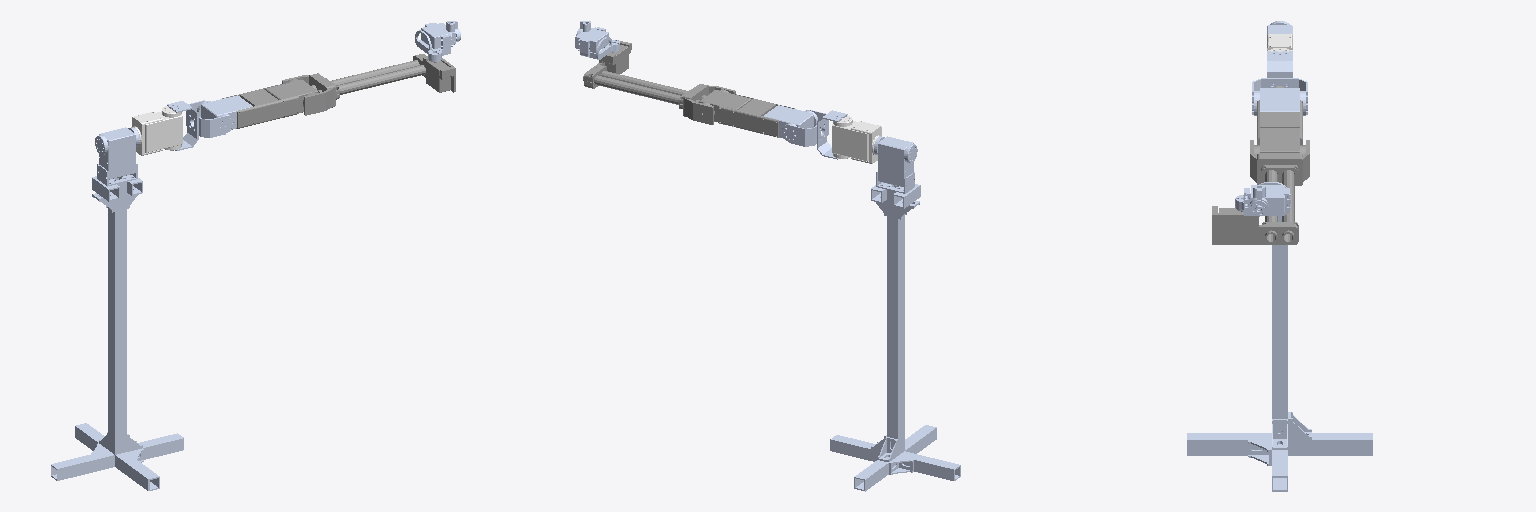
URDF robot description (ASEM_V2.SLDASM):
<?xml version="1.0" encoding="utf-8"?>
<!-- This URDF was automatically created by SolidWorks to URDF Exporter! Originally created by Stephen Brawner (brawner@gmail.com) 
     Commit Version: 1.6.0-4-g7f85cfe  Build Version: 1.6.7995.38578
     For more information, please see http://wiki.ros.org/sw_urdf_exporter -->
<robot
  name="ASEM_V2.SLDASM">
  <link
    name="base_link">
    <inertial>
      <origin
        xyz="0.000783610372245155 0.000780779155891816 0.22487687951109"
        rpy="0 0 0" />
      <mass
        value="0.656798808945253" />
      <inertia
        ixx="0.00352706468827847"
        ixy="-1.80141580287448E-06"
        ixz="8.68934291778745E-07"
        iyy="0.00354410801464646"
        iyz="9.00707901436597E-07"
        izz="0.00022739890592658" />
    </inertial>
    <visual>
      <origin
        xyz="0 0 0"
        rpy="0 0 0" />
      <geometry>
        <mesh
          filename="package://ASEM_V2.SLDASM/meshes/base_link.STL" />
      </geometry>
      <material
        name="">
        <color
          rgba="0.866666666666667 0.909803921568627 1 1" />
      </material>
    </visual>
    <collision>
      <origin
        xyz="0 0 0"
        rpy="0 0 0" />
      <geometry>
        <mesh
          filename="package://ASEM_V2.SLDASM/meshes/base_link.STL" />
      </geometry>
    </collision>
  </link>
  <link
    name="link1">
    <inertial>
      <origin
        xyz="-1.1192675258842E-11 1.53877785190812E-05 0.0699801166821439"
        rpy="0 0 0" />
      <mass
        value="0.120852949012653" />
      <inertia
        ixx="7.02975867816925E-05"
        ixy="9.99323124219071E-14"
        ixz="6.29006420014835E-14"
        iyy="4.76574284717077E-05"
        iyz="-3.17750717415396E-08"
        izz="4.02294785409818E-05" />
    </inertial>
    <visual>
      <origin
        xyz="0 0 0"
        rpy="0 0 0" />
      <geometry>
        <mesh
          filename="package://ASEM_V2.SLDASM/meshes/link1.STL" />
      </geometry>
      <material
        name="">
        <color
          rgba="1 1 1 1" />
      </material>
    </visual>
    <collision>
      <origin
        xyz="0 0 0"
        rpy="0 0 0" />
      <geometry>
        <mesh
          filename="package://ASEM_V2.SLDASM/meshes/link1.STL" />
      </geometry>
    </collision>
  </link>
  <joint
    name="j1"
    type="revolute">
    <origin
      xyz="0 0 0.532999999999992"
      rpy="-1.57079632679455 0 -1.57079632679567" />
    <parent
      link="base_link" />
    <child
      link="link1" />
    <axis
      xyz="0 0 -1" />
    <limit
      lower="-3.14"
      upper="3.14"
      effort="0"
      velocity="0" />
  </joint>
  <link
    name="link2">
    <inertial>
      <origin
        xyz="0.0792972044006984 -4.966580853731E-05 4.99999999999806E-05"
        rpy="0 0 0" />
      <mass
        value="0.14035863699268" />
      <inertia
        ixx="6.09160617441116E-05"
        ixy="-3.17736108122861E-08"
        ixz="-1.21140051073515E-20"
        iyy="6.39289714783637E-05"
        iyz="-2.37554357215717E-21"
        izz="8.09923563529688E-05" />
    </inertial>
    <visual>
      <origin
        xyz="0 0 0"
        rpy="0 0 0" />
      <geometry>
        <mesh
          filename="package://ASEM_V2.SLDASM/meshes/link2.STL" />
      </geometry>
      <material
        name="">
        <color
          rgba="0.866666666666667 0.909803921568627 1 1" />
      </material>
    </visual>
    <collision>
      <origin
        xyz="0 0 0"
        rpy="0 0 0" />
      <geometry>
        <mesh
          filename="package://ASEM_V2.SLDASM/meshes/link2.STL" />
      </geometry>
    </collision>
  </link>
  <joint
    name="j2"
    type="revolute">
    <origin
      xyz="0 0 0.093699999999975"
      rpy="1.5707963267949 -1.5707963267949 0" />
    <parent
      link="link1" />
    <child
      link="link2" />
    <axis
      xyz="0 0 1" />
    <limit
      lower="-3.14"
      upper="3.14"
      effort="0"
      velocity="0" />
  </joint>
  <link
    name="link3">
    <inertial>
      <origin
        xyz="0.106202976965644 -1.38777878078145E-17 9.48819146900058E-06"
        rpy="0 0 0" />
      <mass
        value="0.195921875509131" />
      <inertia
        ixx="6.69647666943292E-05"
        ixy="6.1265784205265E-12"
        ixz="-3.17736108122398E-08"
        iyy="0.000119643985450752"
        iyz="6.06860112751918E-10"
        izz="8.13405997060887E-05" />
    </inertial>
    <visual>
      <origin
        xyz="0 0 0"
        rpy="0 0 0" />
      <geometry>
        <mesh
          filename="package://ASEM_V2.SLDASM/meshes/link3.STL" />
      </geometry>
      <material
        name="">
        <color
          rgba="0.698039215686274 0.698039215686274 0.698039215686274 1" />
      </material>
    </visual>
    <collision>
      <origin
        xyz="0 0 0"
        rpy="0 0 0" />
      <geometry>
        <mesh
          filename="package://ASEM_V2.SLDASM/meshes/link3.STL" />
      </geometry>
    </collision>
  </link>
  <joint
    name="j3"
    type="revolute">
    <origin
      xyz="0.076 -4.99999999999962E-05 4.99999999999806E-05"
      rpy="-1.5707963267949 0 0" />
    <parent
      link="link2" />
    <child
      link="link3" />
    <axis
      xyz="0 0 -1" />
    <limit
      lower="-3.14"
      upper="3.14"
      effort="0"
      velocity="0" />
  </joint>
  <link
    name="link4">
    <inertial>
      <origin
        xyz="0.121297780922475 -0.00228656782111138 -0.0138460602818061"
        rpy="0 0 0" />
      <mass
        value="0.178854495034261" />
      <inertia
        ixx="7.49286492698528E-05"
        ixy="-3.85497495108717E-07"
        ixz="7.55666513639472E-07"
        iyy="0.000304798739532731"
        iyz="-4.09856411979482E-06"
        izz="0.000258620428706312" />
    </inertial>
    <visual>
      <origin
        xyz="0 0 0"
        rpy="0 0 0" />
      <geometry>
        <mesh
          filename="package://ASEM_V2.SLDASM/meshes/link4.STL" />
      </geometry>
      <material
        name="">
        <color
          rgba="0.698039215686274 0.698039215686274 0.698039215686274 1" />
      </material>
    </visual>
    <collision>
      <origin
        xyz="0 0 0"
        rpy="0 0 0" />
      <geometry>
        <mesh
          filename="package://ASEM_V2.SLDASM/meshes/link4.STL" />
      </geometry>
    </collision>
  </link>
  <joint
    name="j4"
    type="revolute">
    <origin
      xyz="0.1524 0 0"
      rpy="0 0 0" />
    <parent
      link="link3" />
    <child
      link="link4" />
    <axis
      xyz="0 0 1" />
    <limit
      lower="-3.14"
      upper="3.14"
      effort="0"
      velocity="0" />
  </joint>
  <link
    name="link5">
    <inertial>
      <origin
        xyz="0.017623450623141 0.0250720179485942 0.0147844406504887"
        rpy="0 0 0" />
      <mass
        value="0.0509977130540439" />
      <inertia
        ixx="1.37983244494247E-05"
        ixy="-7.54684042513299E-07"
        ixz="-2.96781875492616E-07"
        iyy="8.07033122032687E-06"
        iyz="-4.31943035783113E-07"
        izz="1.7649492763302E-05" />
    </inertial>
    <visual>
      <origin
        xyz="0 0 0"
        rpy="0 0 0" />
      <geometry>
        <mesh
          filename="package://ASEM_V2.SLDASM/meshes/link5.STL" />
      </geometry>
      <material
        name="">
        <color
          rgba="0.866666666666667 0.909803921568627 1 1" />
      </material>
    </visual>
    <collision>
      <origin
        xyz="0 0 0"
        rpy="0 0 0" />
      <geometry>
        <mesh
          filename="package://ASEM_V2.SLDASM/meshes/link5.STL" />
      </geometry>
    </collision>
  </link>
  <joint
    name="j5"
    type="revolute">
    <origin
      xyz="0.203415334104116 -0.0326559999999993 -0.0424779999999994"
      rpy="1.5707963267949 0 0" />
    <parent
      link="link4" />
    <child
      link="link5" />
    <axis
      xyz="0 0 -1" />
    <limit
      lower="-3.14"
      upper="3.14"
      effort="0"
      velocity="0" />
  </joint>
  <link
    name="link6">
    <inertial>
      <origin
        xyz="0.0044743505779595 -7.97057662232925E-09 0.005009004270078"
        rpy="0 0 0" />
      <mass
        value="0.00796119611791654" />
      <inertia
        ixx="3.42403171450765E-07"
        ixy="-3.56529906151535E-12"
        ixz="-1.29953843092014E-08"
        iyy="6.13789450189992E-07"
        iyz="-1.10568785578683E-12"
        izz="6.82449762710764E-07" />
    </inertial>
    <visual>
      <origin
        xyz="0 0 0"
        rpy="0 0 0" />
      <geometry>
        <mesh
          filename="package://ASEM_V2.SLDASM/meshes/link6.STL" />
      </geometry>
      <material
        name="">
        <color
          rgba="0.866666666666667 0.909803921568627 1 1" />
      </material>
    </visual>
    <collision>
      <origin
        xyz="0 0 0"
        rpy="0 0 0" />
      <geometry>
        <mesh
          filename="package://ASEM_V2.SLDASM/meshes/link6.STL" />
      </geometry>
    </collision>
  </link>
  <joint
    name="j6"
    type="revolute">
    <origin
      xyz="0.0474750000000006 0.0179749999999995 0.0194250000000002"
      rpy="0 -1.5707963267949 0" />
    <parent
      link="link5" />
    <child
      link="link6" />
    <axis
      xyz="0 0 -1" />
    <limit
      lower="-3.14"
      upper="3.14"
      effort="0"
      velocity="0" />
  </joint>
</robot>

--- Facts derived from the render (not from the file) ---
The picture shows the robot from 3 angles, left to right: view 1: azimuth 30°, elevation 25°; view 2: azimuth 150°, elevation 25°; view 3: azimuth 270°, elevation 25°; orthographic projection.
Robot: ASEM_V2.SLDASM — 7 links, 6 joints (6 revolute); root link base_link; default pose: all joints at 0.
Visible links, largest first — view 1: base_link, link4, link3, link2, link1, link5; view 2: base_link, link4, link3, link2, link1, link5; view 3: base_link, link4, link2, link3, link5.
Boxes of the visible links, x1,y1,x2,y2 form: base_link: (51, 127, 183, 490); link4: (282, 54, 455, 115); link3: (222, 79, 317, 128); link2: (167, 95, 252, 150); link1: (132, 106, 182, 155); link5: (415, 23, 455, 61); base_link: (830, 136, 960, 491); link4: (583, 40, 735, 124); link3: (700, 89, 794, 137); link2: (763, 105, 847, 159); link1: (832, 115, 881, 163); link5: (575, 27, 619, 59); base_link: (1187, 21, 1372, 491); link4: (1212, 140, 1309, 244); link2: (1252, 51, 1307, 115); link3: (1254, 100, 1305, 154); link5: (1235, 182, 1290, 215).
Bounding box of the posed robot: 0.6885 × 0.22 × 0.6078 m (x, y, z).
7 mesh visuals loaded from 7 distinct referenced files (7 binary STL).
